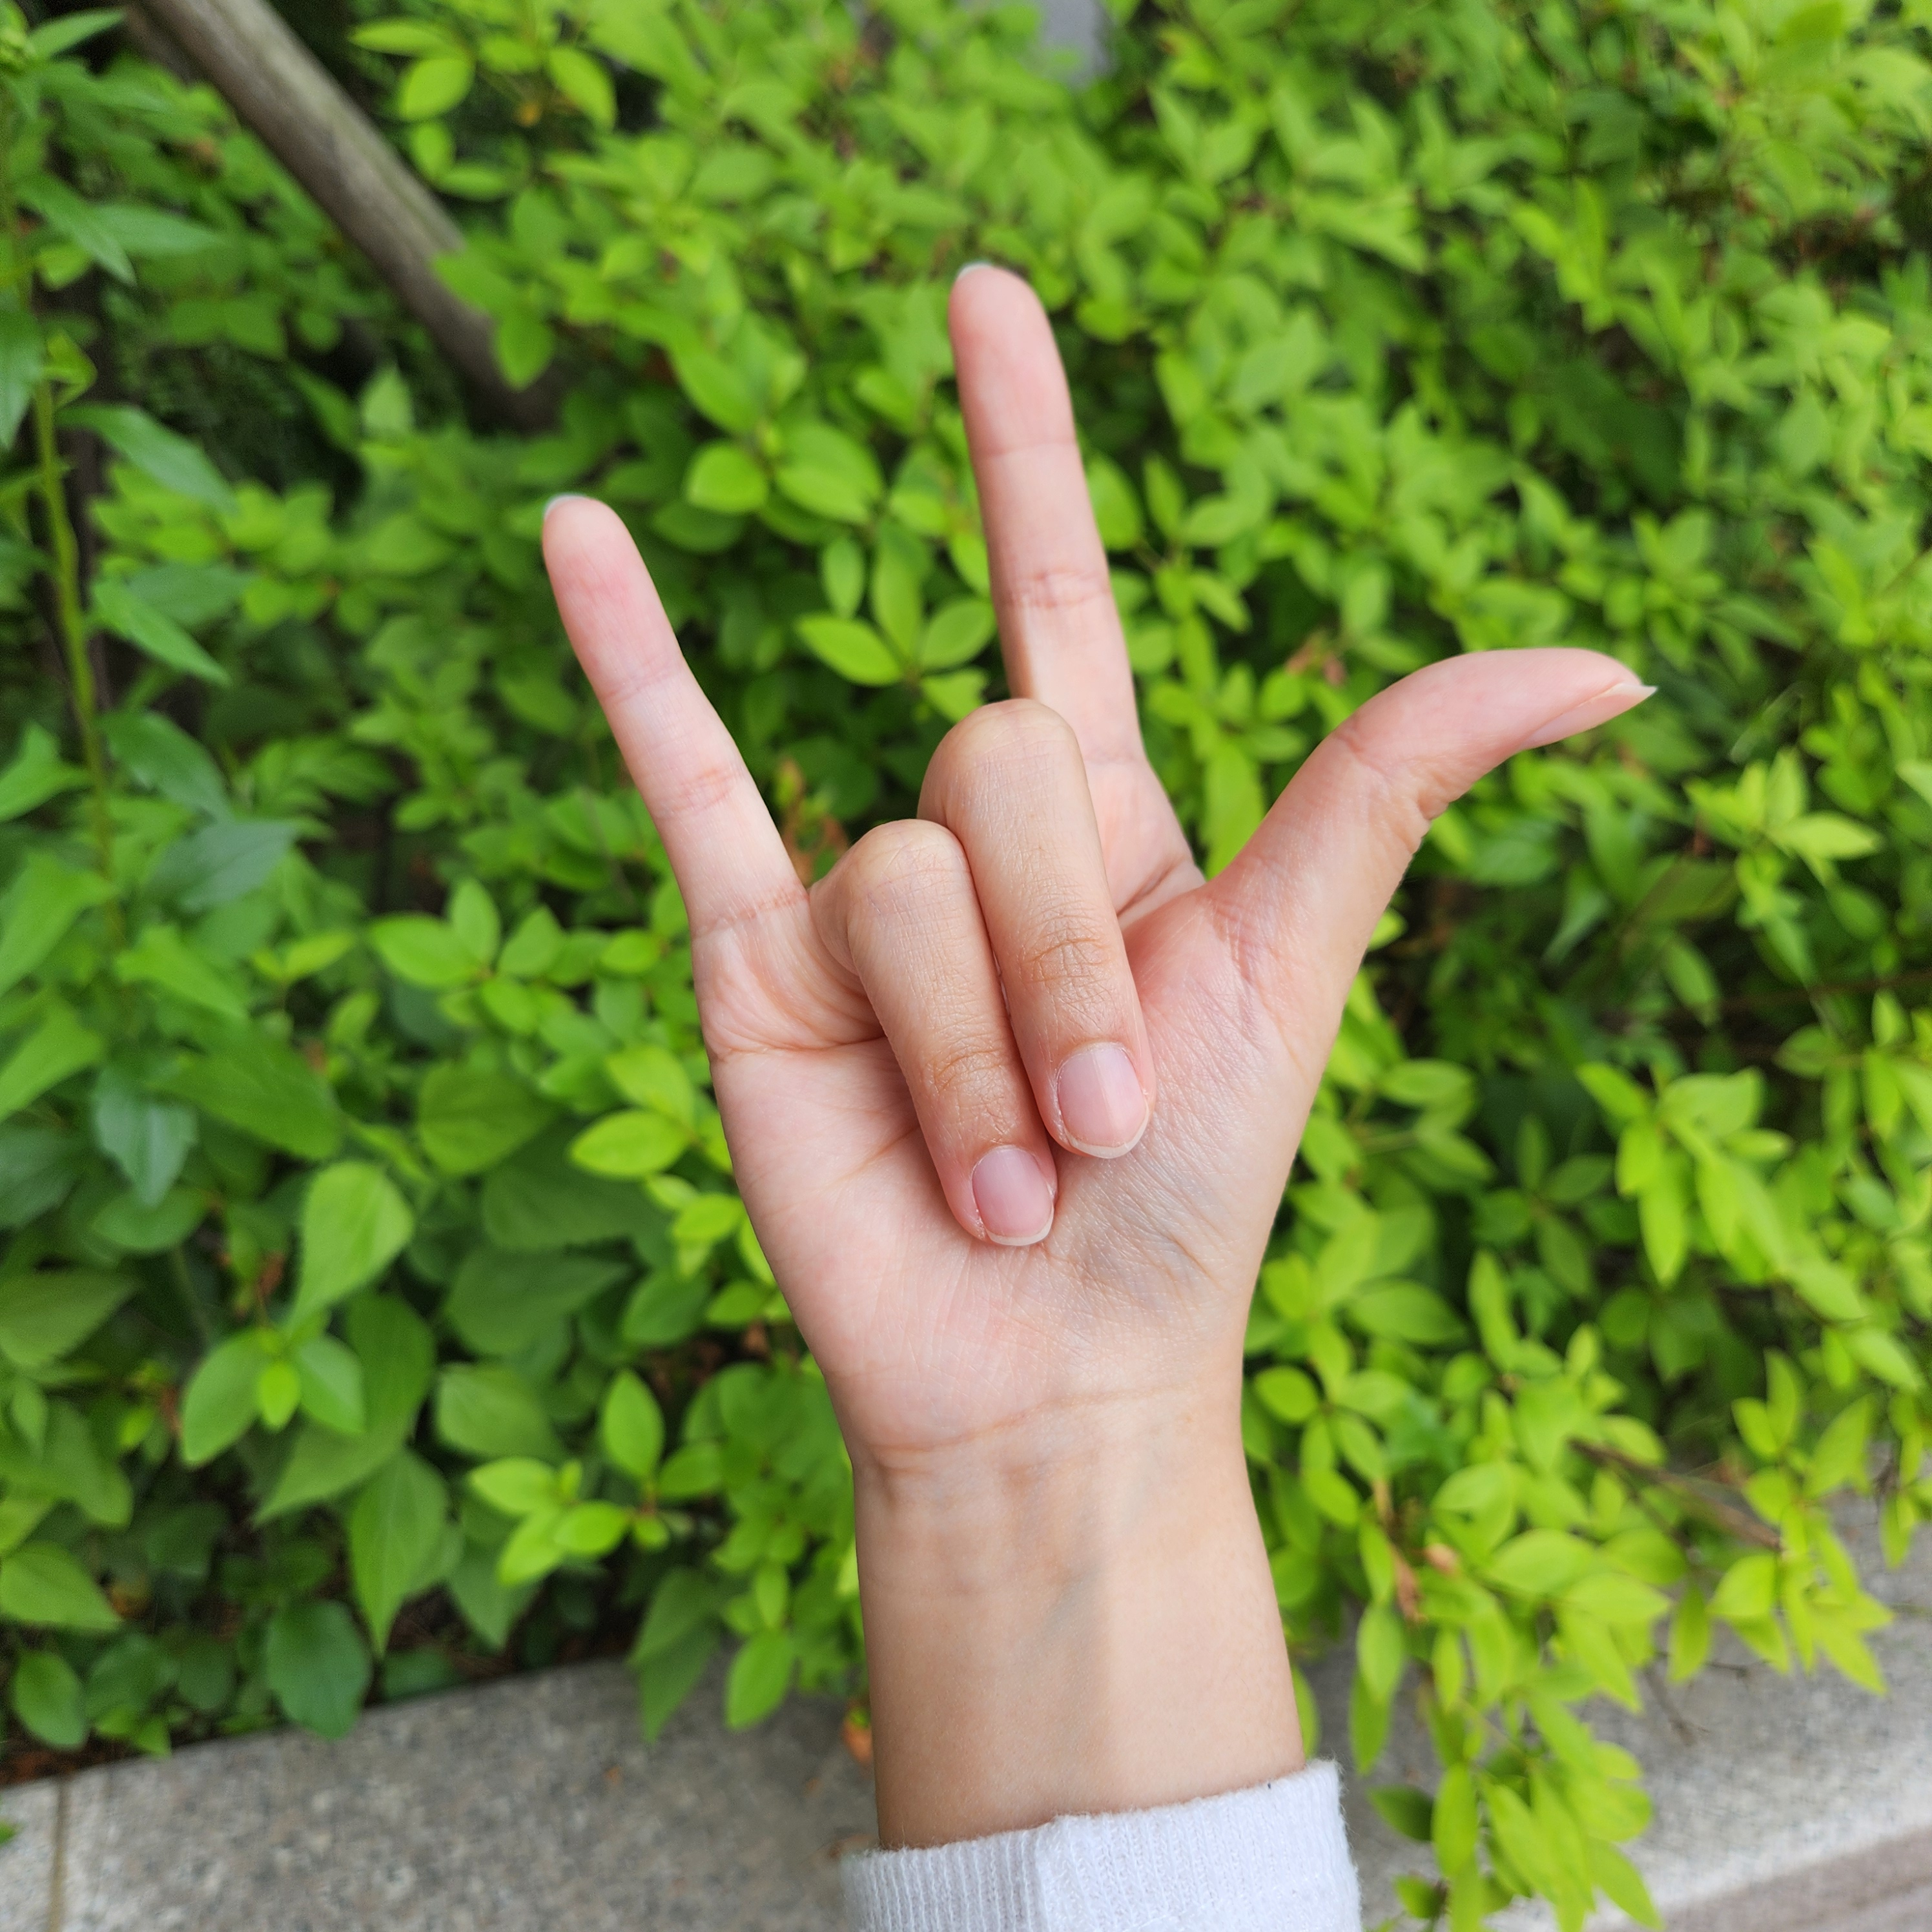iloveyou: (548, 265, 1654, 1444)
